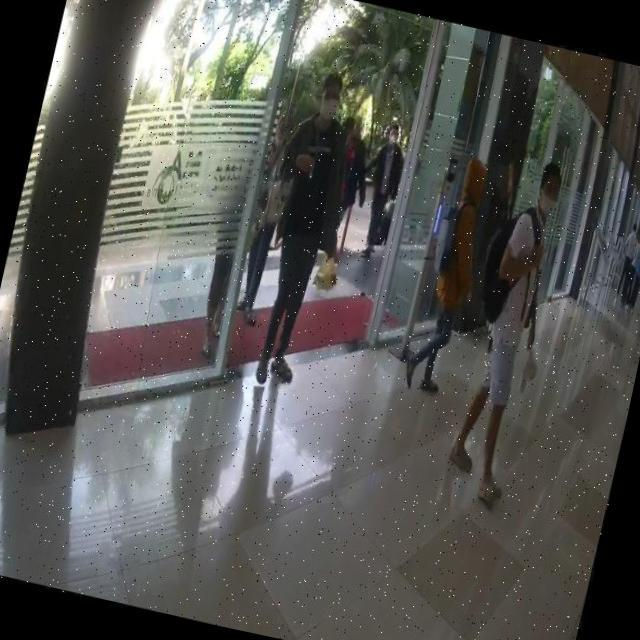person: (440, 152, 580, 514), (232, 69, 360, 390), (404, 150, 499, 400), (310, 115, 376, 292), (353, 115, 411, 258)
